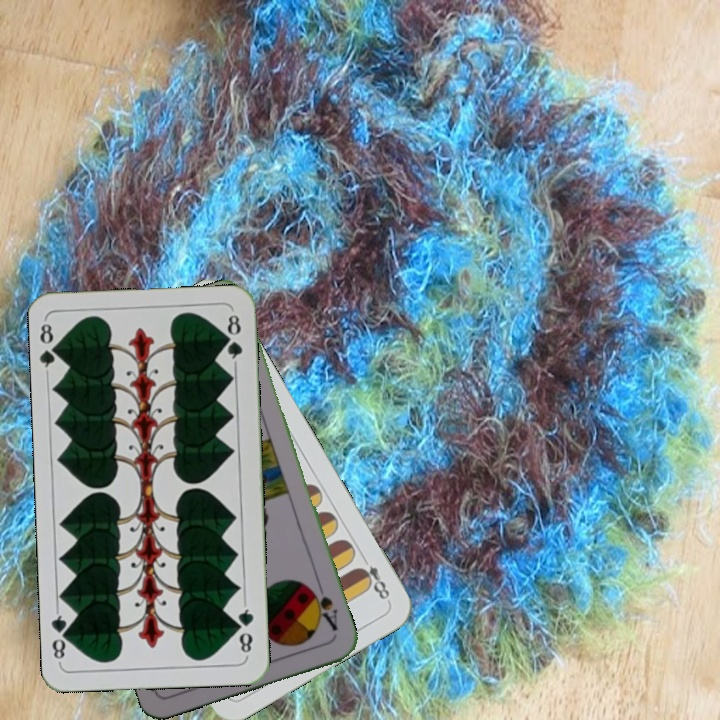E8: (353, 551, 393, 602)
G8: (36, 317, 64, 376), (233, 600, 257, 659)
SA: (305, 583, 341, 634)
